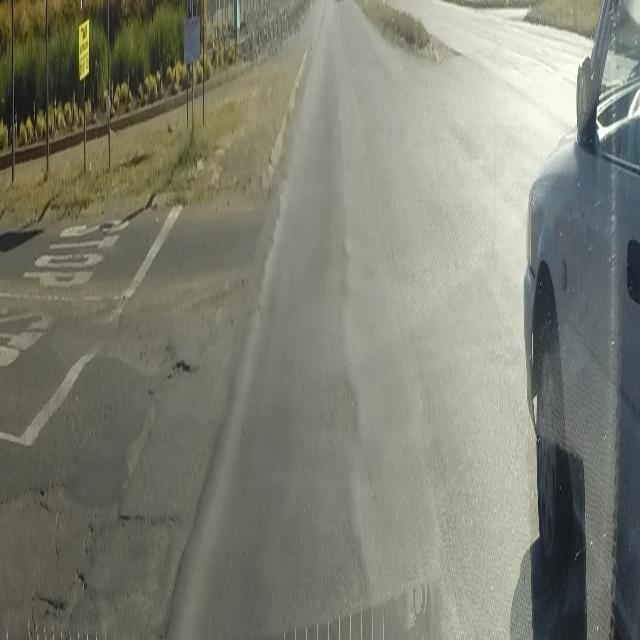pothole: (167, 356, 200, 379)
